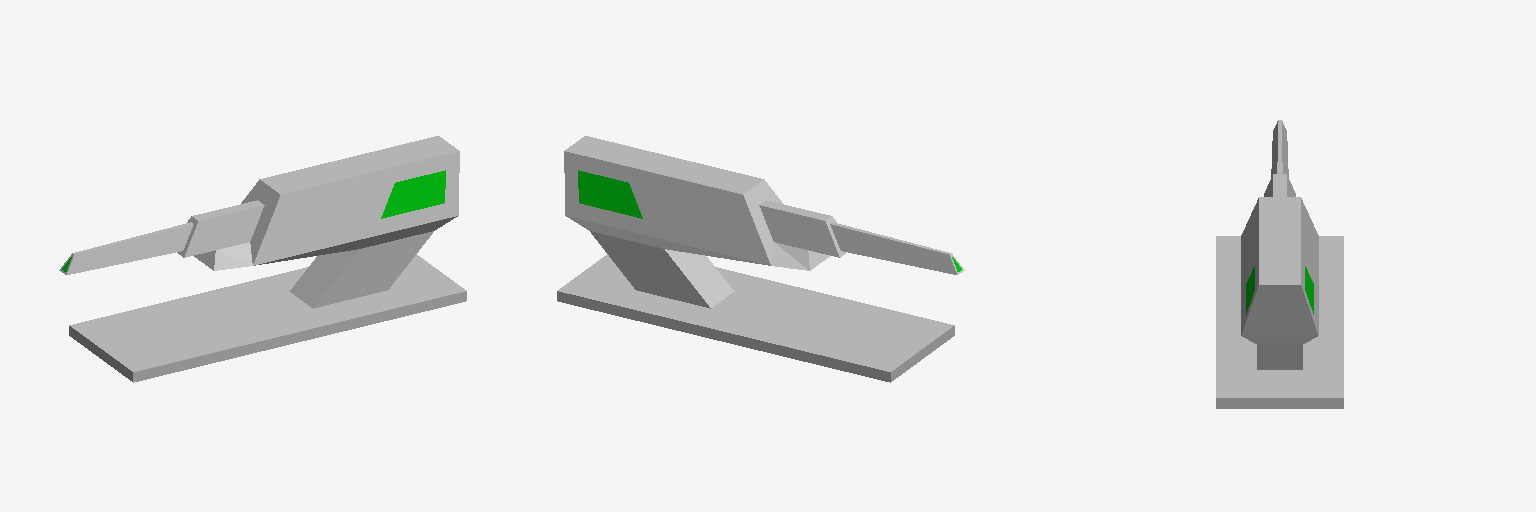
The model's file is machinegun.obj.
3 renders of one model, left to right at view 1: azimuth 30°, elevation 25°; view 2: azimuth 150°, elevation 25°; view 3: azimuth 270°, elevation 25°, orthographic.
Visible parts, largest first — view 1: Cube; view 2: Cube; view 3: Cube.
Boxes of the visible parts, <box> form: Cube: <box>59,136,466,382</box>; Cube: <box>557,136,964,382</box>; Cube: <box>1216,120,1343,408</box>.
Bounding box in the file's own units: 1.39 × 0.4505 × 0.4.